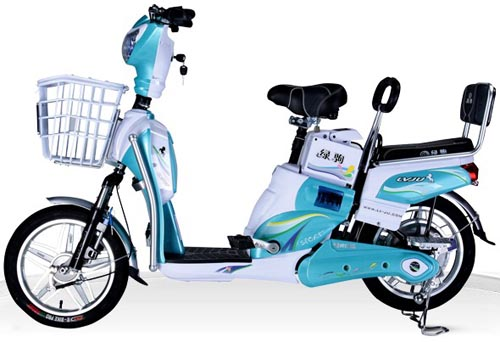电动车: (8, 2, 500, 339)
